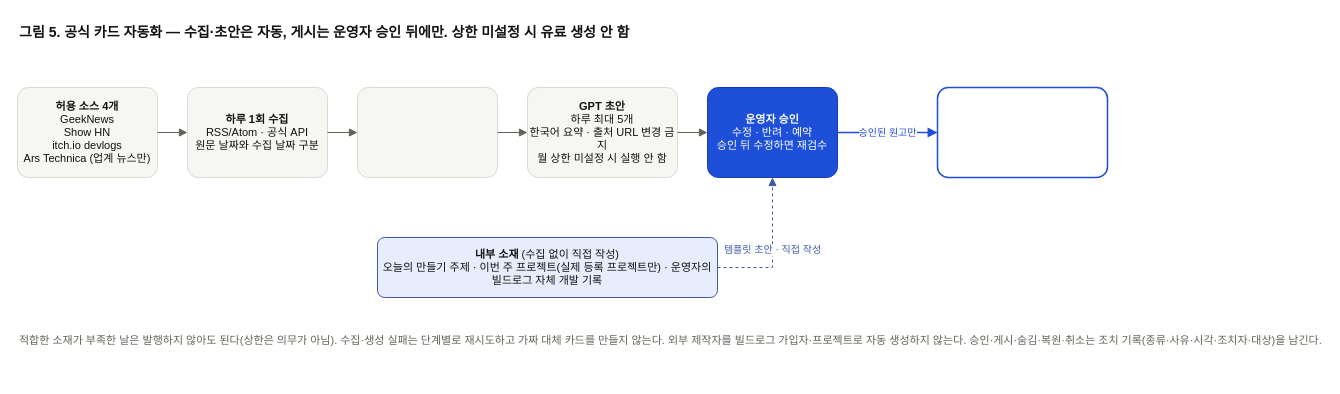
Image size: 1340x394. Some labels were removed from this diagram. The box of each missing label's shape, as (x1, y1, x2, y2) in pixels:
게시 → 피드 하루 최대 2개 (KST 00:00 집계) "공식" 배지 · 출처 · 원문 날짜 표시: (936, 86, 1108, 178)
정규화 · 중복 제거 출처 ID · 정규 URL · 내용 해시 같은 사건은 한 카드로: (356, 86, 498, 178)
